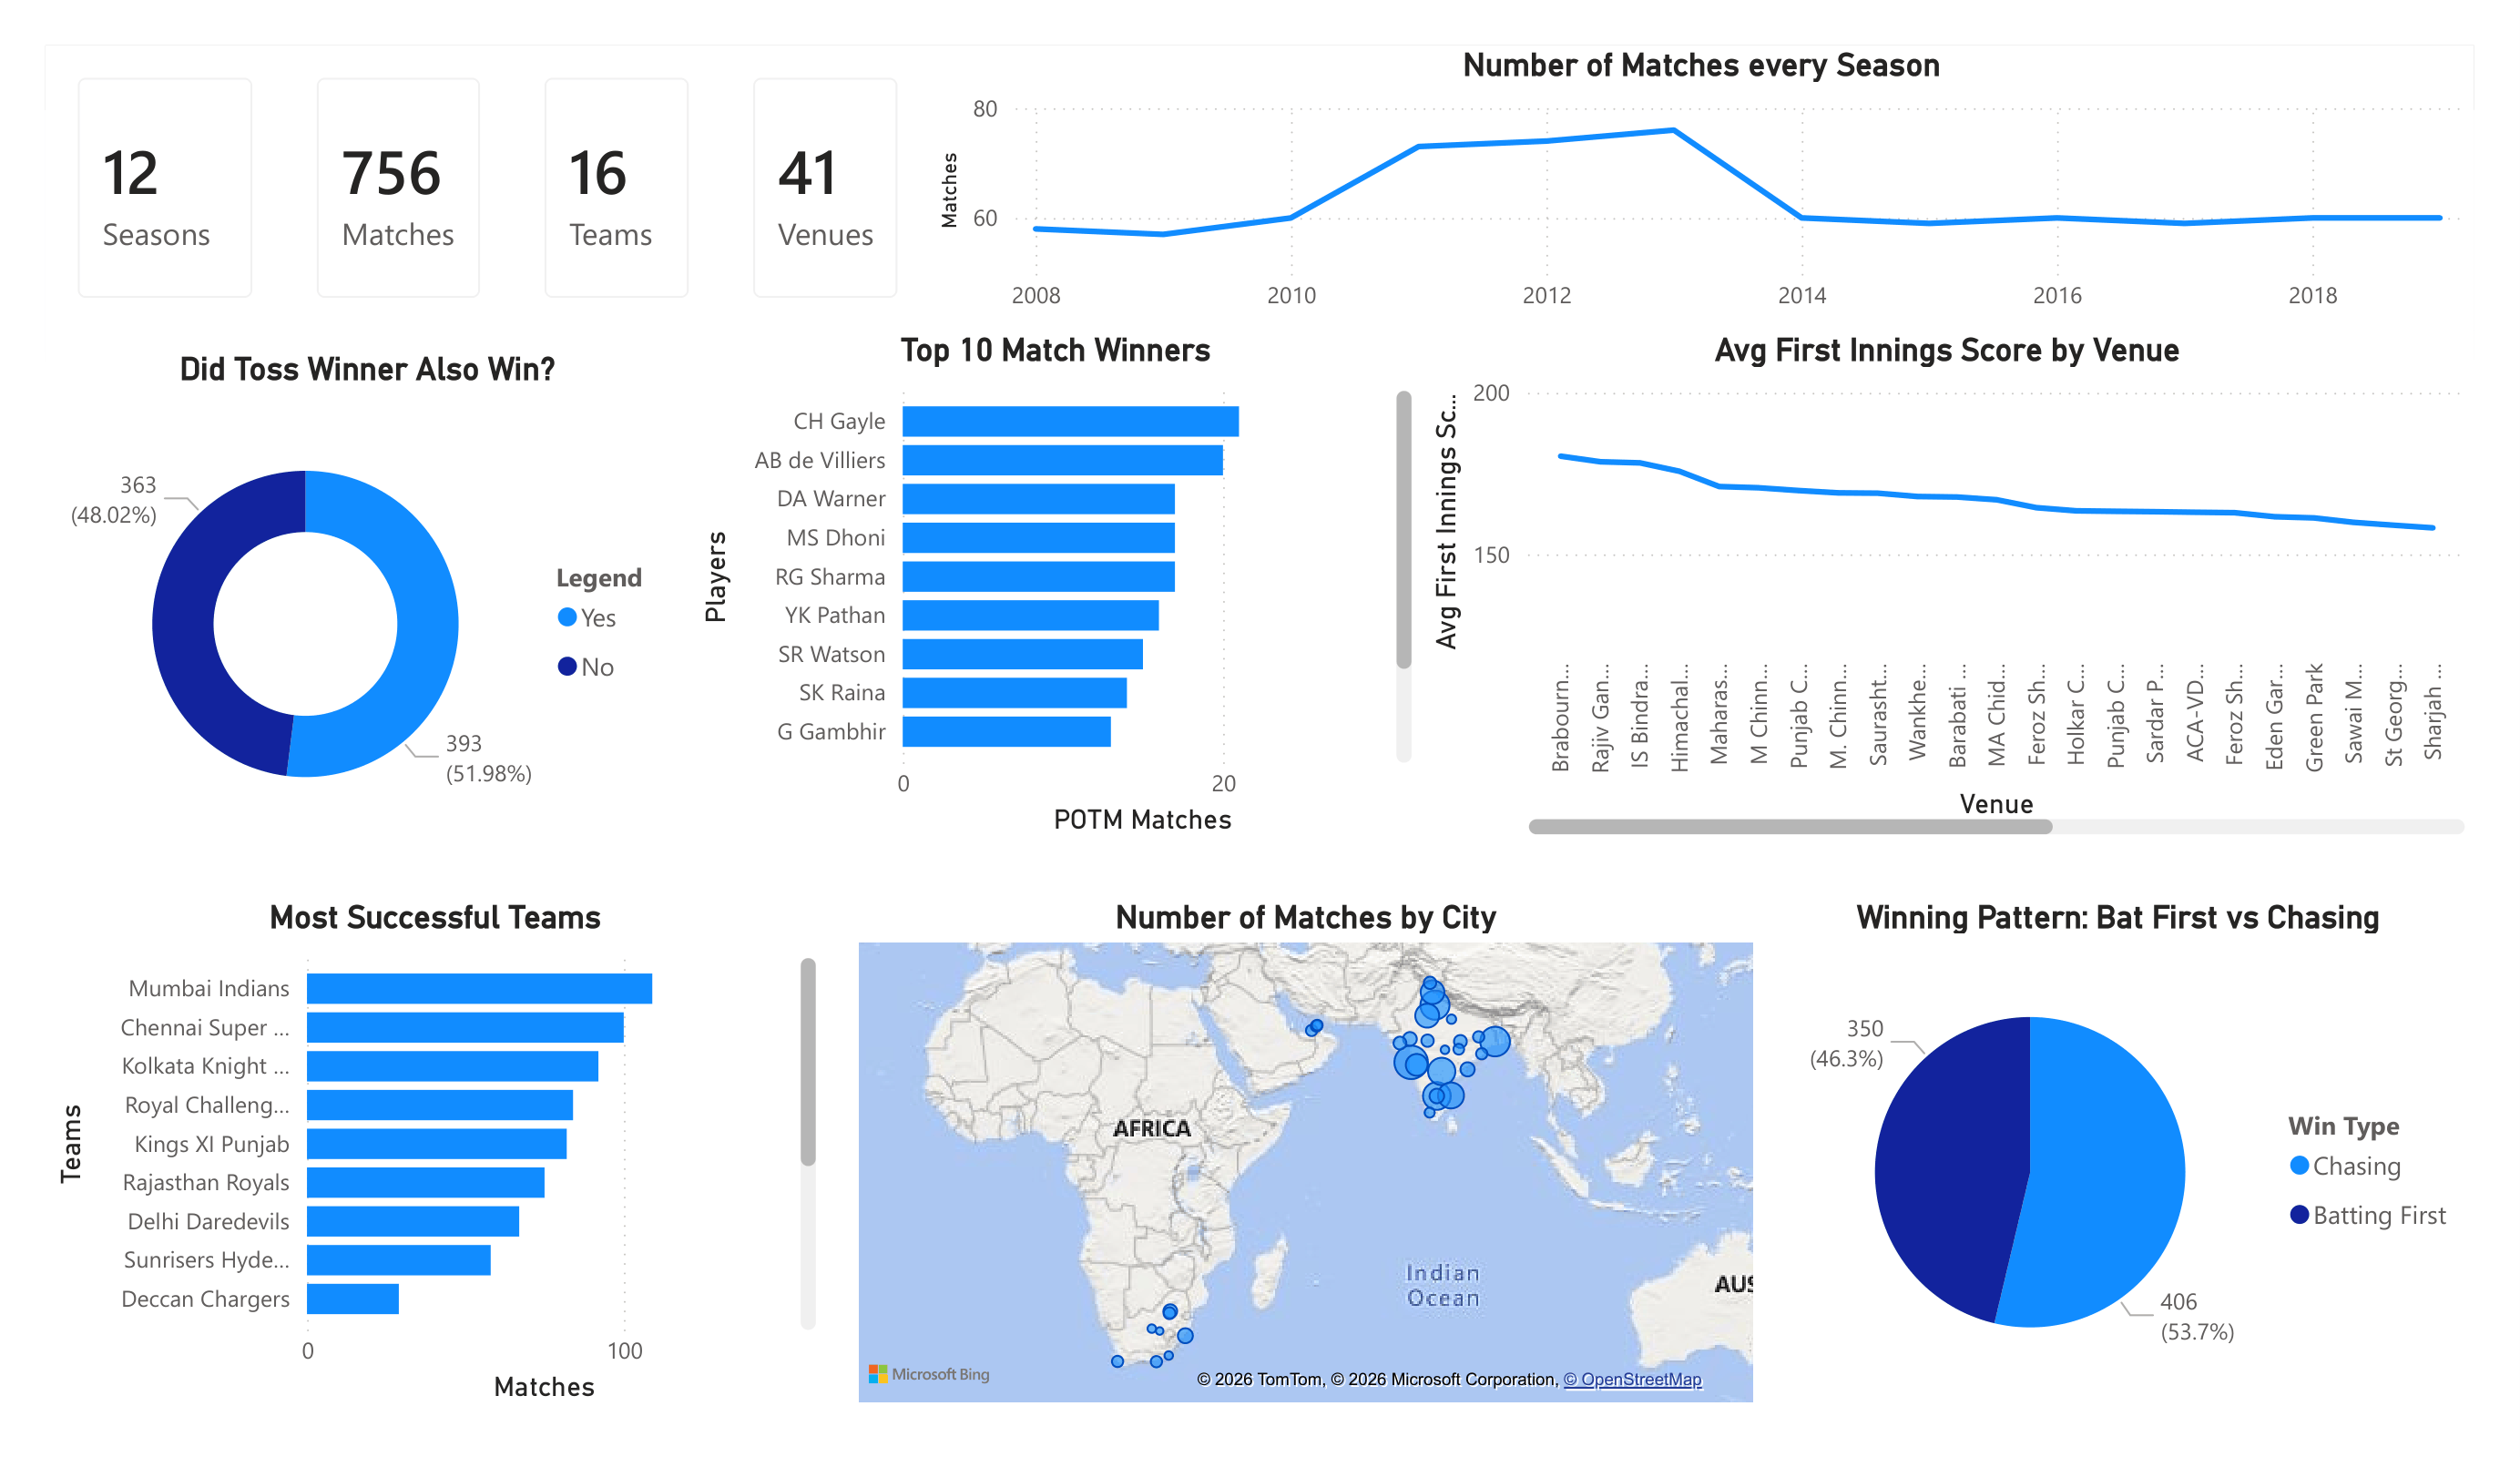

What the dashboard file says about the page in this screenshot:
{"tool":"powerbi","page":{"name":"Dashboard","canvas":[1280,720],"ordinal":0},"visuals":[{"type":"cardVisual","title":"Total Matches","fields":{"Data":["CountNonNull(matches.id)"]},"box":[126.2,0,120,150],"z":0,"group":"g1"},{"type":"barChart","title":"Most Successful Teams","fields":{"Category":["matches.winner"],"Y":["CountNonNull(matches.id)"]},"box":[0,448.8,411.2,271.2],"z":0},{"type":"cardVisual","fields":{"Data":["Count(matches.winner)"]},"box":[246.2,0,110,150],"z":1000,"group":"g1"},{"type":"donutChart","title":"Did Toss Winner Also Win?","fields":{"Y":["CountNonNull(matches.id)"],"Category":["matches.toss_team_win"]},"box":[0,160,340,271.2],"z":1000},{"type":"cardVisual","fields":{"Data":["Count(matches.venue)"]},"box":[356.2,0,110,150],"z":2000,"group":"g1"},{"type":"pieChart","title":"Winning Pattern: Bat First vs Chasing","fields":{"Category":["matches.win_type"],"Y":["CountNonNull(matches.id)"]},"box":[905,448.8,375,271.2],"z":2000},{"type":"cardVisual","fields":{"Data":["Count(matches.season)"]},"box":[0,0,126.2,150],"z":3000,"group":"g1"},{"type":"map","title":"Number of Matches by City","fields":{"Category":["matches.city"],"Size":["CountNonNull(matches.id)"]},"box":[423.8,448.8,481.2,271.2],"z":3000},{"type":"lineChart","title":"Number of Matches every Season","fields":{"Category":["matches.season"],"Y":["CountNonNull(matches.id)"]},"box":[466.2,0,813.8,150],"z":4000},{"type":"barChart","title":"Top 10 Match Winners","fields":{"Category":["matches.player_of_match"],"Y":["CountNonNull(matches.id)"]},"box":[340,150,385,271.2],"z":5000},{"type":"group","id":"g1","title":"Group 1","box":[0,0,466.2,150],"z":6000},{"type":"lineChart","title":"Avg First Innings Score by Venue","fields":{"Category":["matches.venue"],"Y":["FirstInningsScore.Avg First Innings Score"]},"box":[725,150,555,271.2],"z":6001}]}

Visuals, with their boxes on the page's 1280x720 design canvas (x1, y1, x2, y2). These are canvas units, not pixel positions in the 2520x1457 screenshot, which may show the page scaled, cropped or inside an application window:
"Total Matches" cardVisual: 126, 0, 246, 150
"Most Successful Teams" barChart: 0, 449, 411, 720
cardVisual - Count(matches.winner): 246, 0, 356, 150
"Did Toss Winner Also Win?" donutChart: 0, 160, 340, 431
cardVisual - Count(matches.venue): 356, 0, 466, 150
"Winning Pattern: Bat First vs Chasing" pieChart: 905, 449, 1280, 720
cardVisual - Count(matches.season): 0, 0, 126, 150
"Number of Matches by City" map: 424, 449, 905, 720
"Number of Matches every Season" lineChart: 466, 0, 1280, 150
"Top 10 Match Winners" barChart: 340, 150, 725, 421
"Group 1" group: 0, 0, 466, 150
"Avg First Innings Score by Venue" lineChart: 725, 150, 1280, 421
